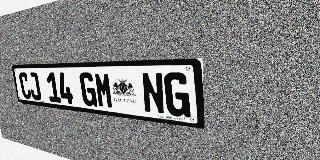1: (45, 72, 61, 103)
4: (57, 72, 74, 104)
C: (18, 72, 32, 99)
G: (164, 72, 191, 118), (79, 72, 98, 107)
J: (27, 72, 42, 101)
M: (94, 72, 114, 109)
N: (141, 72, 166, 115)
